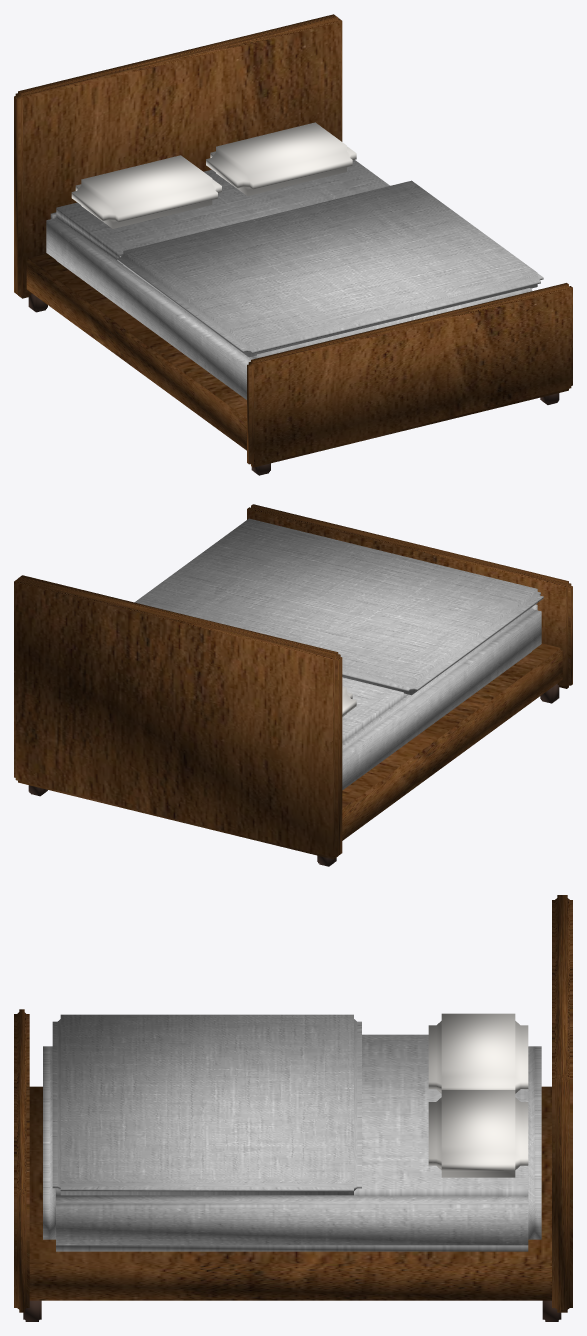
Rendered from bed-vono-double.glb.
3 views of the same model, one above another, from view 1: azimuth 30°, elevation 25°; view 2: azimuth 150°, elevation 25°; view 3: azimuth 270°, elevation 25° (orthographic). The views are drawn at different scales.
Parts seen in each view (by area): view 1: Duvet, Head, Foot, Mattress, Rail, Pillow, Pillow.001; view 2: Head, Duvet, Mattress, Rail, Foot; view 3: Duvet, Mattress, Rail, Head, Pillow.001, Pillow, Foot.
Part boxes in pixels (x1=…): Duvet: x1=117, y1=180, x2=543, y2=357; Head: x1=14, y1=14, x2=342, y2=298; Foot: x1=247, y1=283, x2=572, y2=467; Mattress: x1=46, y1=160, x2=532, y2=399; Rail: x1=26, y1=253, x2=246, y2=450; Pillow: x1=71, y1=155, x2=221, y2=228; Pillow.001: x1=206, y1=122, x2=356, y2=195; Head: x1=14, y1=575, x2=342, y2=859; Duvet: x1=134, y1=518, x2=543, y2=695; Mattress: x1=342, y1=604, x2=541, y2=790; Rail: x1=342, y1=643, x2=562, y2=840; Foot: x1=247, y1=504, x2=572, y2=688; Duvet: x1=52, y1=1014, x2=361, y2=1195; Mattress: x1=43, y1=1034, x2=541, y2=1251; Rail: x1=29, y1=1086, x2=551, y2=1300; Head: x1=552, y1=895, x2=572, y2=1312; Pillow.001: x1=428, y1=1090, x2=528, y2=1177; Pillow: x1=428, y1=1013, x2=528, y2=1093; Foot: x1=14, y1=1009, x2=29, y2=1312.
Bounding box in the file's own units: 1.92 × 1.23 × 2.46.
Materials: 4 (2 with a texture image).
